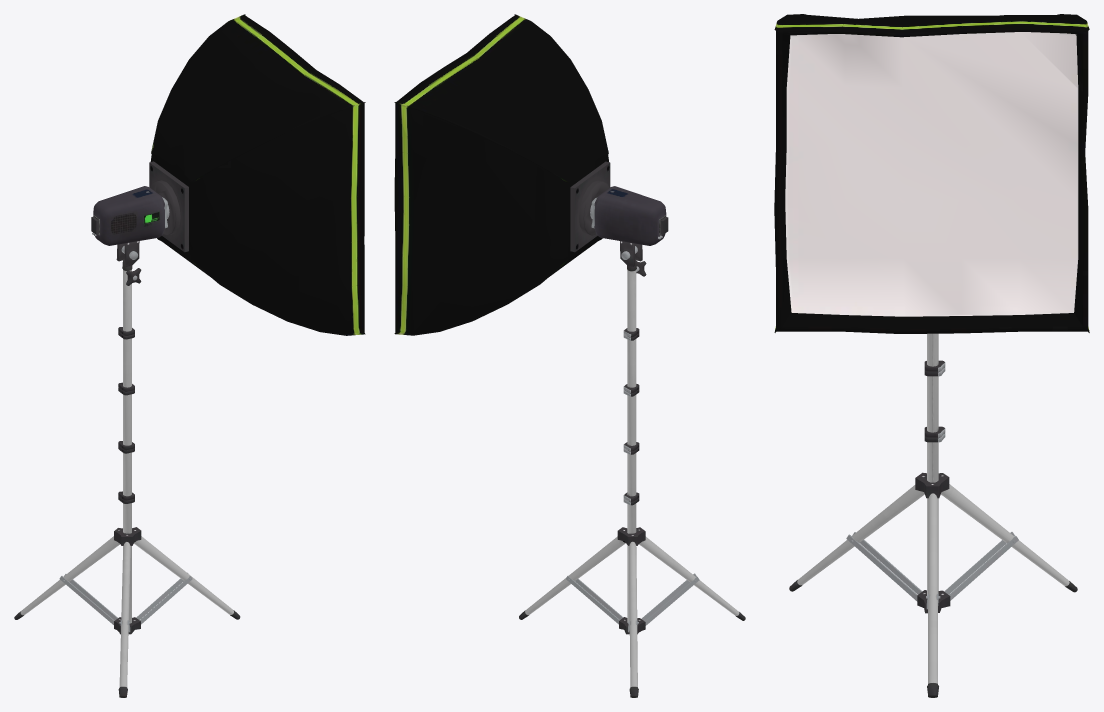
Rendered from softbox.glb.
3 views of the same model, side by side, from view 1: azimuth 30°, elevation 25°; view 2: azimuth 150°, elevation 25°; view 3: azimuth 270°, elevation 25° (orthographic). The views are drawn at different scales.
Visible parts, largest first — view 1: Cube_Material.003_0; view 2: Cube_Material.003_0; view 3: Cube_Material.003_0.
Boxes of the visible parts, bbox=[...] form: Cube_Material.003_0: bbox=[14, 14, 365, 697]; Cube_Material.003_0: bbox=[394, 14, 745, 697]; Cube_Material.003_0: bbox=[774, 14, 1089, 697].
Bounding box in the file's own units: 623 × 1354 × 542.
Materials: 1 (1 with a texture image).
